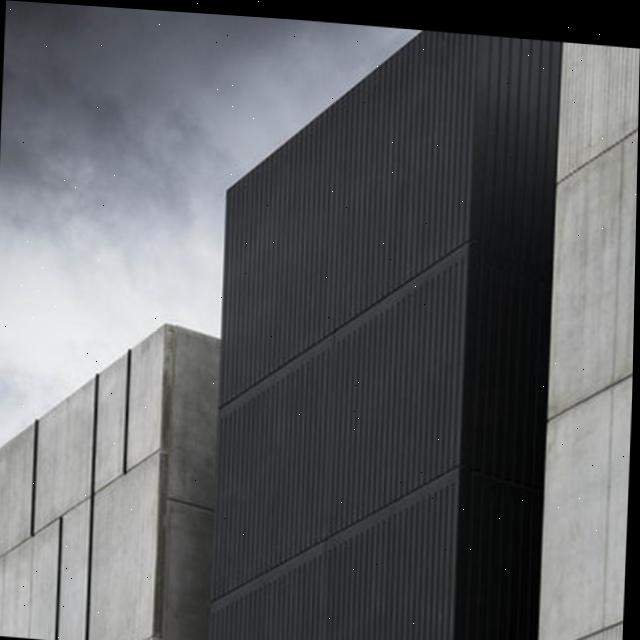building: (205, 15, 558, 640), (0, 309, 218, 640)
